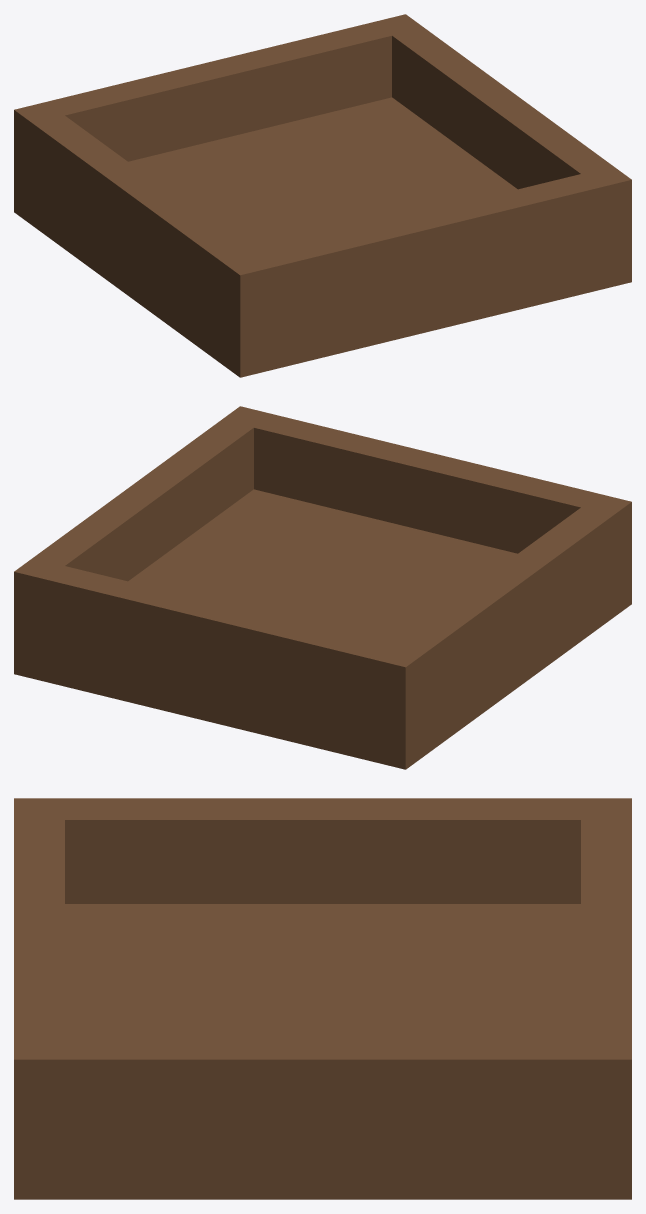
3 views of the same model, one above another, from view 1: azimuth 30°, elevation 25°; view 2: azimuth 150°, elevation 25°; view 3: azimuth 270°, elevation 25° (orthographic). The views are drawn at different scales.
Visible parts, largest first — view 1: Box_6; view 2: Box_6; view 3: Box_6.
Boxes of the visible parts, x1=… form: Box_6: x1=14, y1=14, x2=631, y2=377; Box_6: x1=14, y1=406, x2=631, y2=769; Box_6: x1=14, y1=798, x2=631, y2=1199.
Size of the model in its own units: 29.15 by 29.15 by 7.29.
